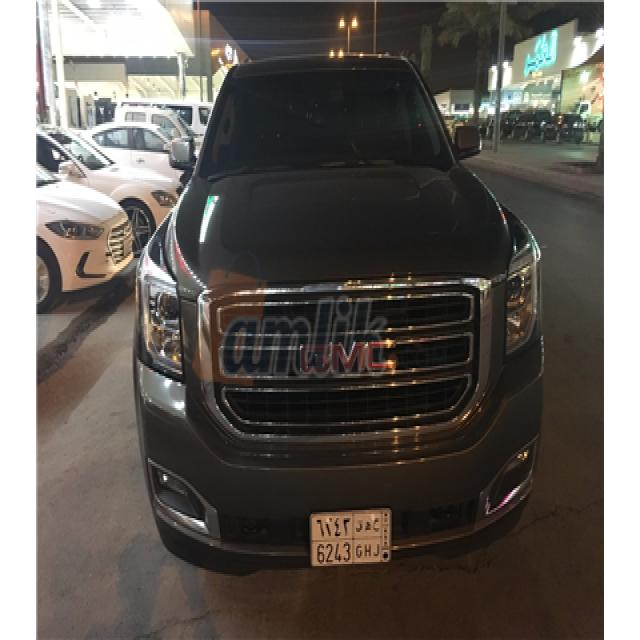license_plate: (310, 506, 394, 568)
